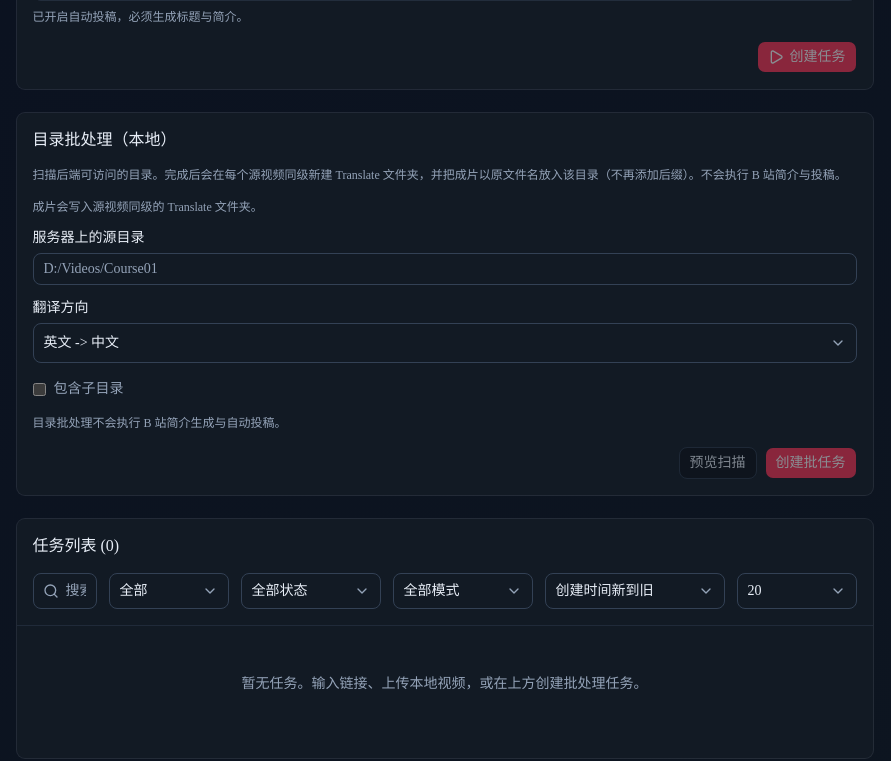
Test: 全局活跃任务数 › 切换到已完成筛选后仍显示超过单页容量的全局活跃数
This screenshot has width=891, height=761.
(page scrolled)
Click the dropdown labelled "状态". click: x=310, y=591
box: [240,573,380,609]
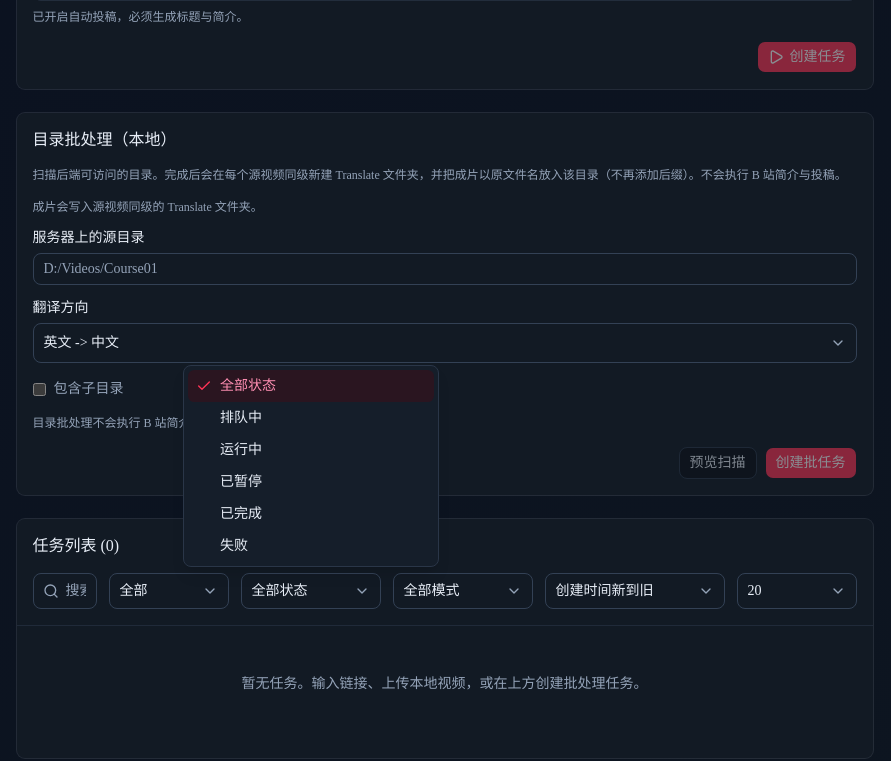
Click the option "已完成". click: x=241, y=514
box: [220,506,262,521]
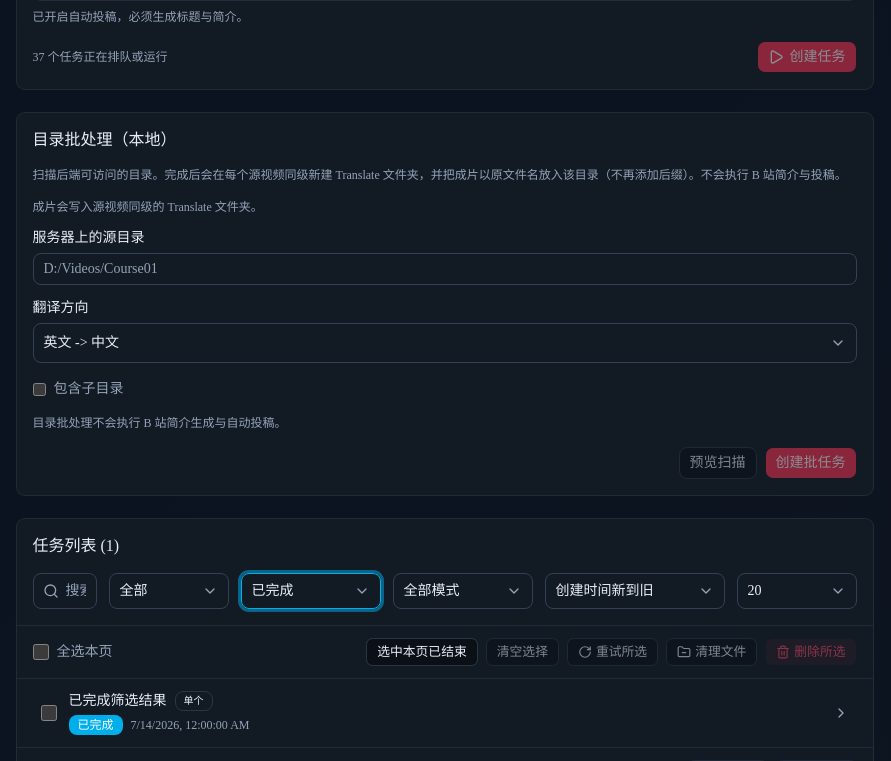
Expected: the text "已完成筛选结果" is shown, [68,691,166,711]
Expected: the text "37 个任务正在排队或运行" is shown, [32,49,168,65]
